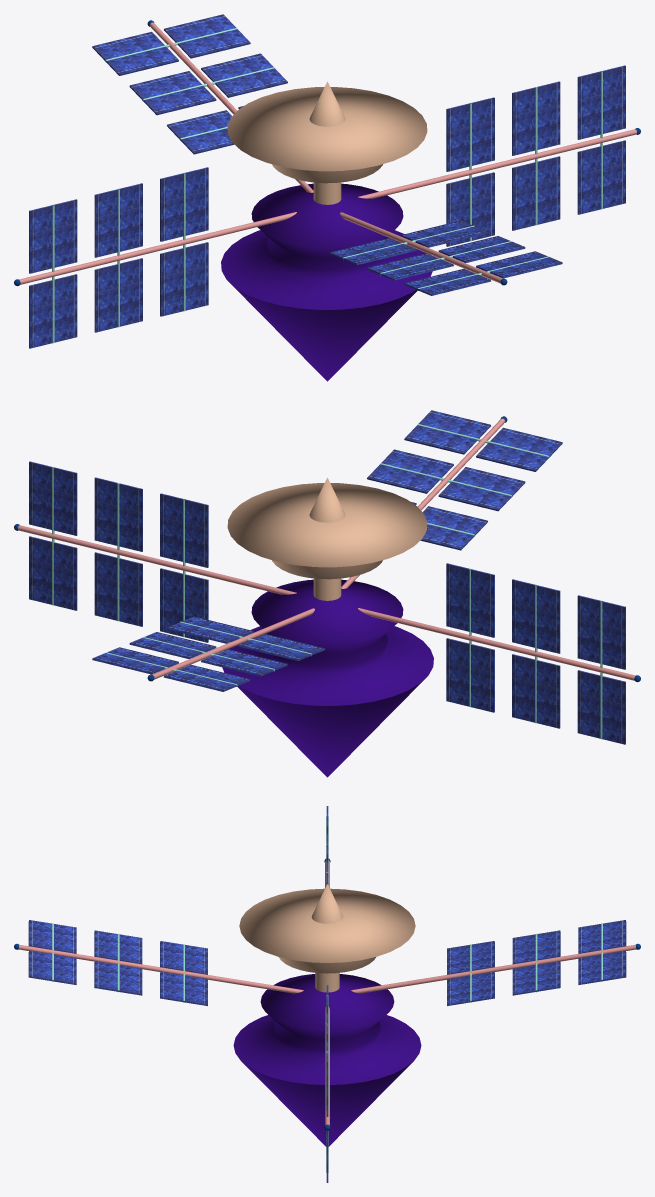
The model's file is Proto Base Station.obj.
3 views of the same model, one above another, from view 1: azimuth 30°, elevation 25°; view 2: azimuth 150°, elevation 25°; view 3: azimuth 270°, elevation 25° (orthographic). The views are drawn at different scales.
Parts seen in each view (by area): view 1: Docking, Command, Box012, Box013, Box002, Box008, Box011, Box005, Box004, Box003, Box009, Box010 (+18 smaller); view 2: Docking, Command, Box012, Box013, Box002, Box008, Box011, Box004, Box003, Box009, Box010, Box005 (+18 smaller); view 3: Docking, Command, Solars003, Solars004, Box017, Box022, Box018, Box025, Box014, Box021, Box016, Box023 (+4 smaller).
Boxes of the visible parts, x1=… form: Docking: x1=221, y1=183, x2=432, y2=381; Command: x1=227, y1=81, x2=427, y2=183; Box012: x1=160, y1=167, x2=208, y2=241; Box013: x1=160, y1=242, x2=208, y2=316; Box002: x1=577, y1=65, x2=625, y2=139; Box008: x1=29, y1=199, x2=77, y2=273; Box011: x1=94, y1=183, x2=142, y2=257; Box005: x1=512, y1=81, x2=560, y2=155; Box004: x1=512, y1=156, x2=560, y2=230; Box003: x1=577, y1=140, x2=625, y2=214; Box009: x1=29, y1=274, x2=77, y2=348; Box010: x1=94, y1=258, x2=142, y2=332; Docking: x1=222, y1=579, x2=433, y2=777; Command: x1=227, y1=477, x2=427, y2=579; Box012: x1=446, y1=563, x2=494, y2=637; Box013: x1=446, y1=638, x2=494, y2=712; Box002: x1=29, y1=461, x2=77, y2=535; Box008: x1=577, y1=595, x2=625, y2=669; Box011: x1=512, y1=579, x2=560, y2=653; Box004: x1=94, y1=552, x2=142, y2=626; Box003: x1=29, y1=536, x2=77, y2=610; Box009: x1=577, y1=670, x2=625, y2=744; Box010: x1=512, y1=654, x2=560, y2=728; Box005: x1=94, y1=477, x2=142, y2=551; Docking: x1=233, y1=974, x2=421, y2=1146; Command: x1=239, y1=884, x2=415, y2=973; Solars003: x1=18, y1=944, x2=303, y2=993; Solars004: x1=351, y1=944, x2=636, y2=993; Box017: x1=94, y1=961, x2=142, y2=995; Box022: x1=512, y1=961, x2=560, y2=995; Box018: x1=160, y1=971, x2=207, y2=1005; Box025: x1=447, y1=971, x2=494, y2=1005; Box014: x1=28, y1=950, x2=76, y2=984; Box021: x1=578, y1=950, x2=626, y2=984; Box016: x1=94, y1=930, x2=142, y2=964; Box023: x1=512, y1=930, x2=560, y2=964.
Size of the model in its own units: 52.5 by 24.09 by 51.74.
